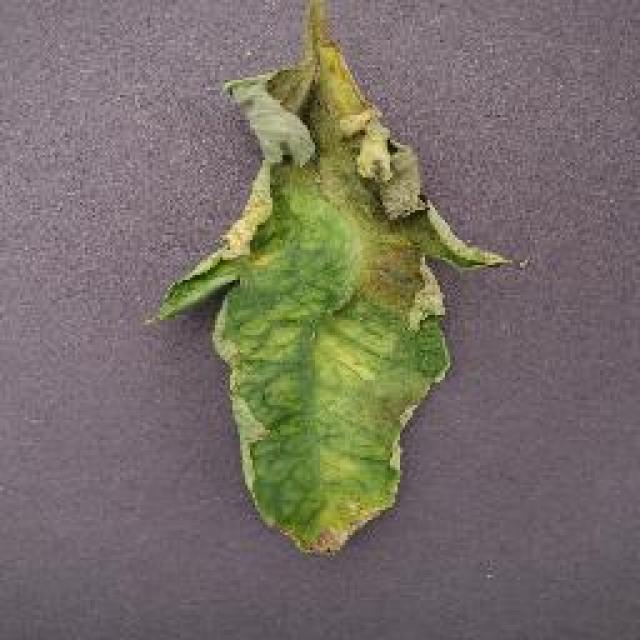Tomato Late Blight: (223, 40, 502, 342)
